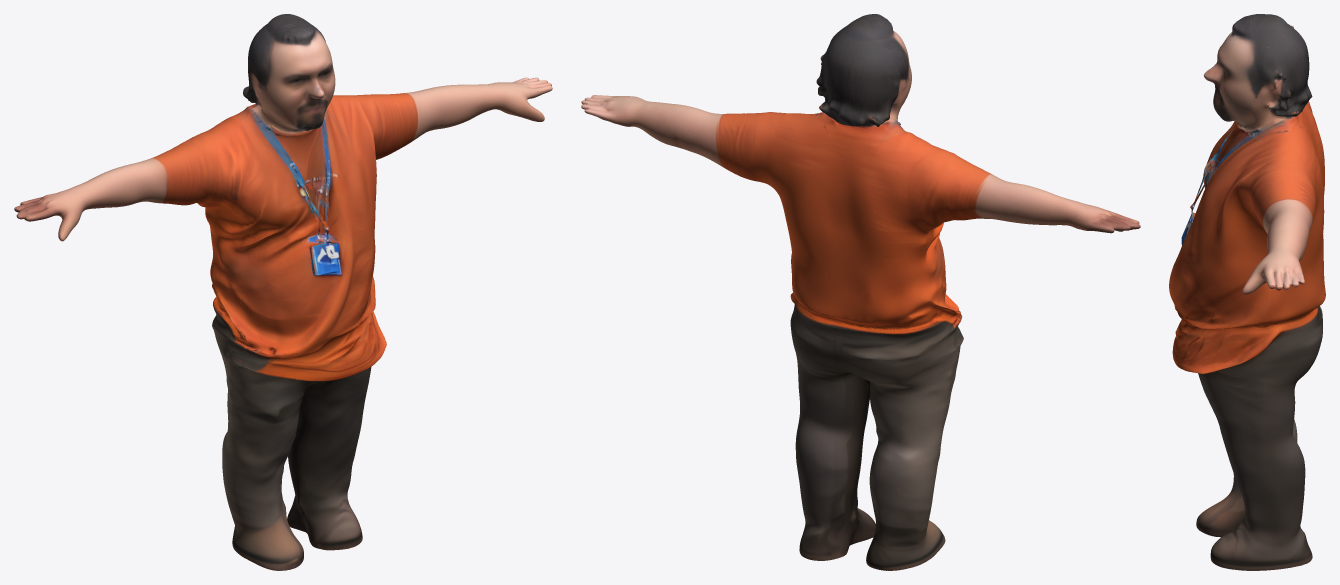
File: base_basic_pbr.fbx
3 renders of one model, left to right at view 1: azimuth 30°, elevation 25°; view 2: azimuth 150°, elevation 25°; view 3: azimuth 270°, elevation 25°, orthographic.
Parts seen in each view (by area): view 1: model; view 2: model; view 3: model.
Boxes of the visible parts, x1,y1,x2,y2 form: model: [14, 14, 552, 570]; model: [581, 14, 1140, 570]; model: [1169, 14, 1325, 570].
Size of the model in its own units: 190 by 175 by 47.32.
1 material, 1 textured.
